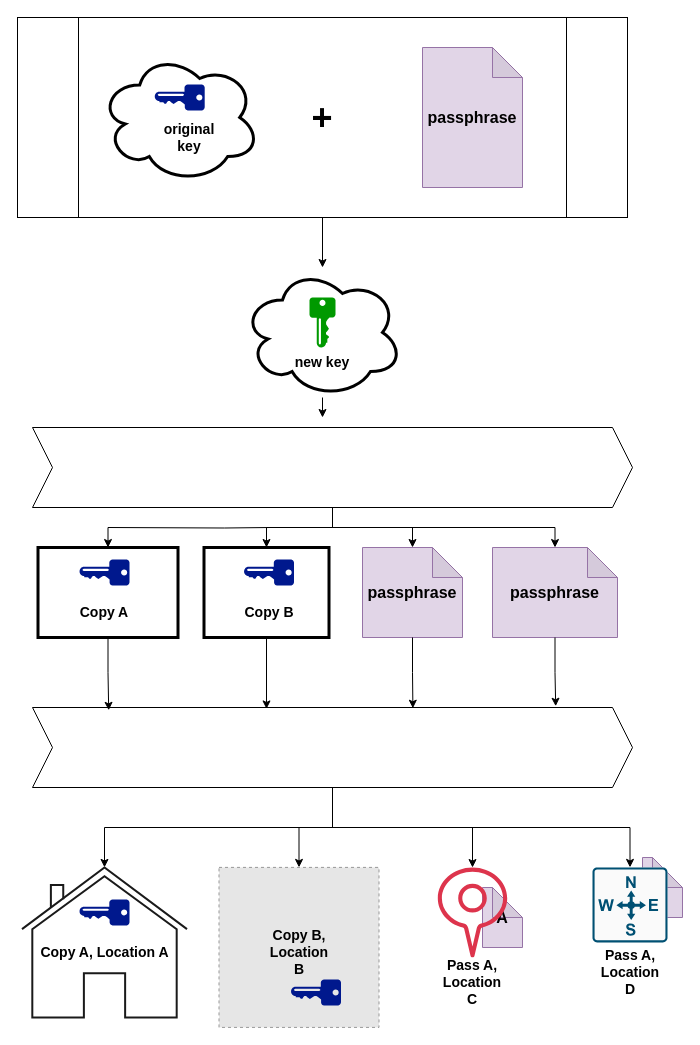
The diagram is 700 pixels wide and 1045 high, and some of its shapes have lost their labels. Grey dashed boxes stand in for pictures. Each missing label, with the centre of its shape:
"Adding Distribution" goes at point 332,747.
"Creating Redundancy" goes at point 332,467.
